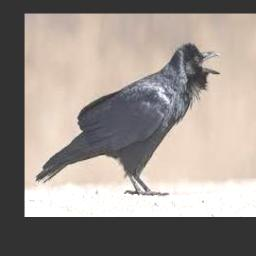Crow: (36, 42, 221, 196)
